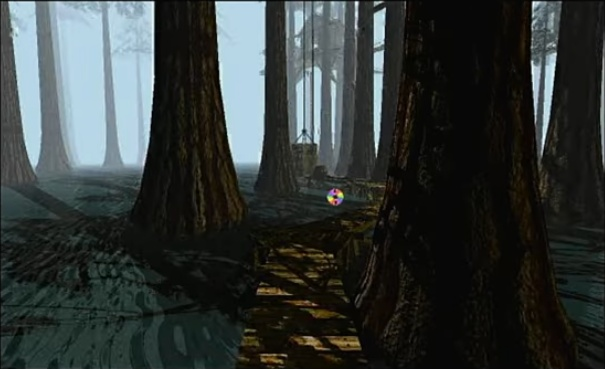Waiting: (324, 185, 347, 207)
